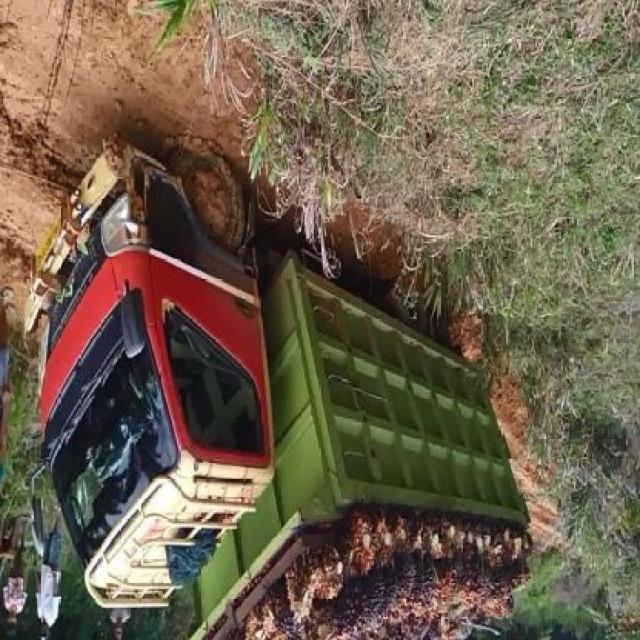truck: (26, 119, 535, 640)
